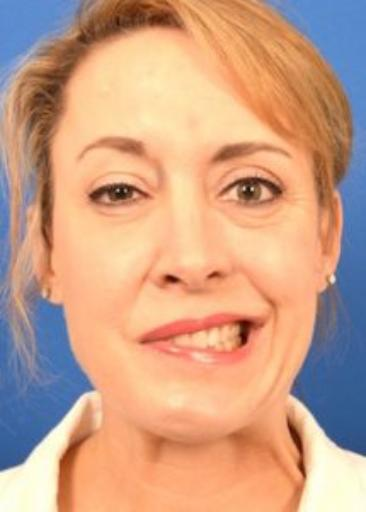left_eye: (218, 177, 284, 206)
left_lip_corner: (265, 309, 279, 322)
right_eye: (89, 183, 151, 206)
right_lip_corner: (132, 331, 152, 350)
